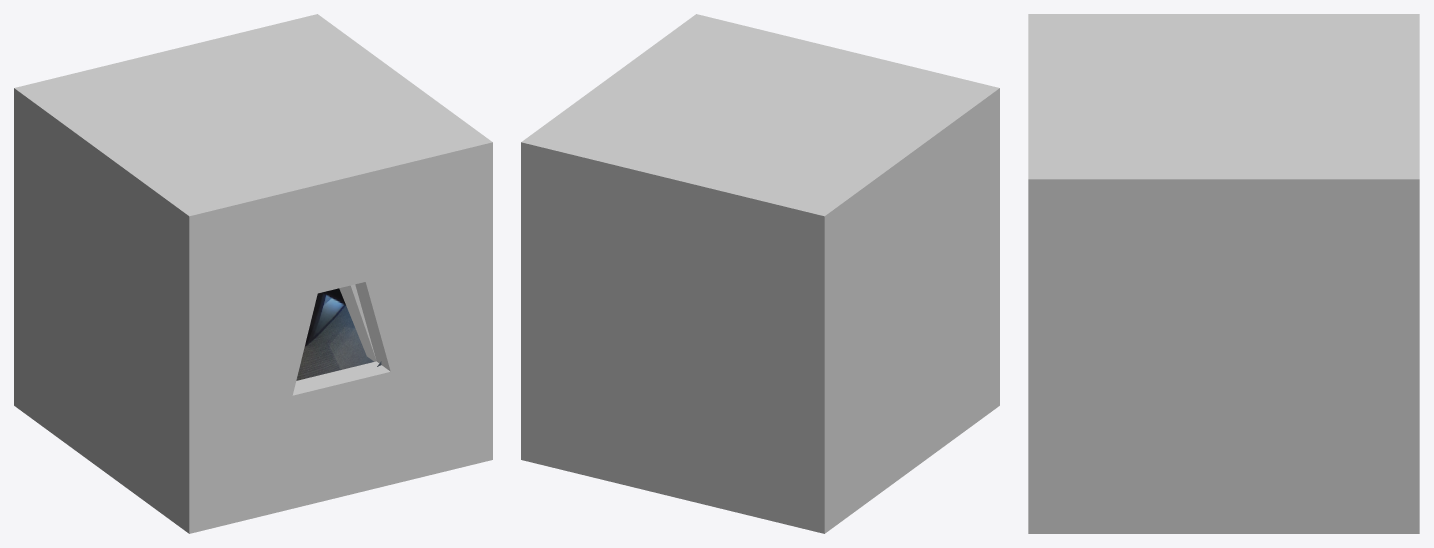
The model's file is 360_sphere_small_3.fbx.
3 views of the same model, side by side, from view 1: azimuth 30°, elevation 25°; view 2: azimuth 150°, elevation 25°; view 3: azimuth 270°, elevation 25° (orthographic). The views are drawn at different scales.
Parts seen in each view (by area): view 1: Occlusion_Cube, Globe, Door; view 2: Occlusion_Cube; view 3: Occlusion_Cube.
Boxes of the visible parts, left/top/right/bottom form: Occlusion_Cube: left=14, top=14, right=492, bottom=533; Globe: left=296, top=288, right=381, bottom=380; Door: left=339, top=284, right=376, bottom=361; Occlusion_Cube: left=521, top=14, right=999, bottom=533; Occlusion_Cube: left=1028, top=14, right=1419, bottom=533.
Size of the model in its own units: 620 by 620 by 620.
Materials: 1 (1 with a texture image).
